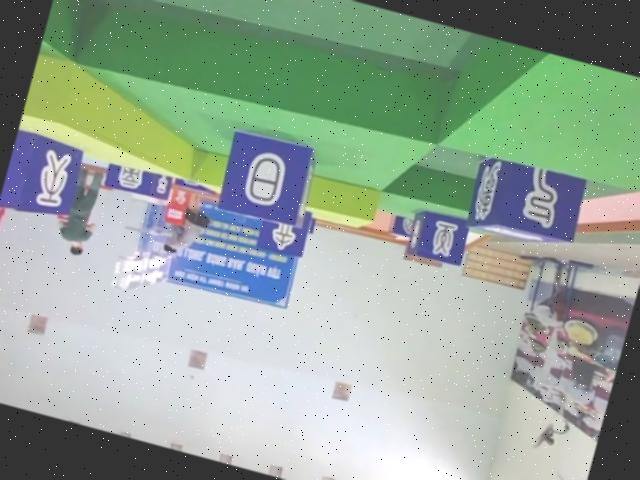R2 Fake Blue: (462, 151, 589, 257), (214, 125, 323, 231), (0, 127, 86, 226), (405, 205, 473, 268), (255, 199, 314, 260), (104, 160, 174, 203)
